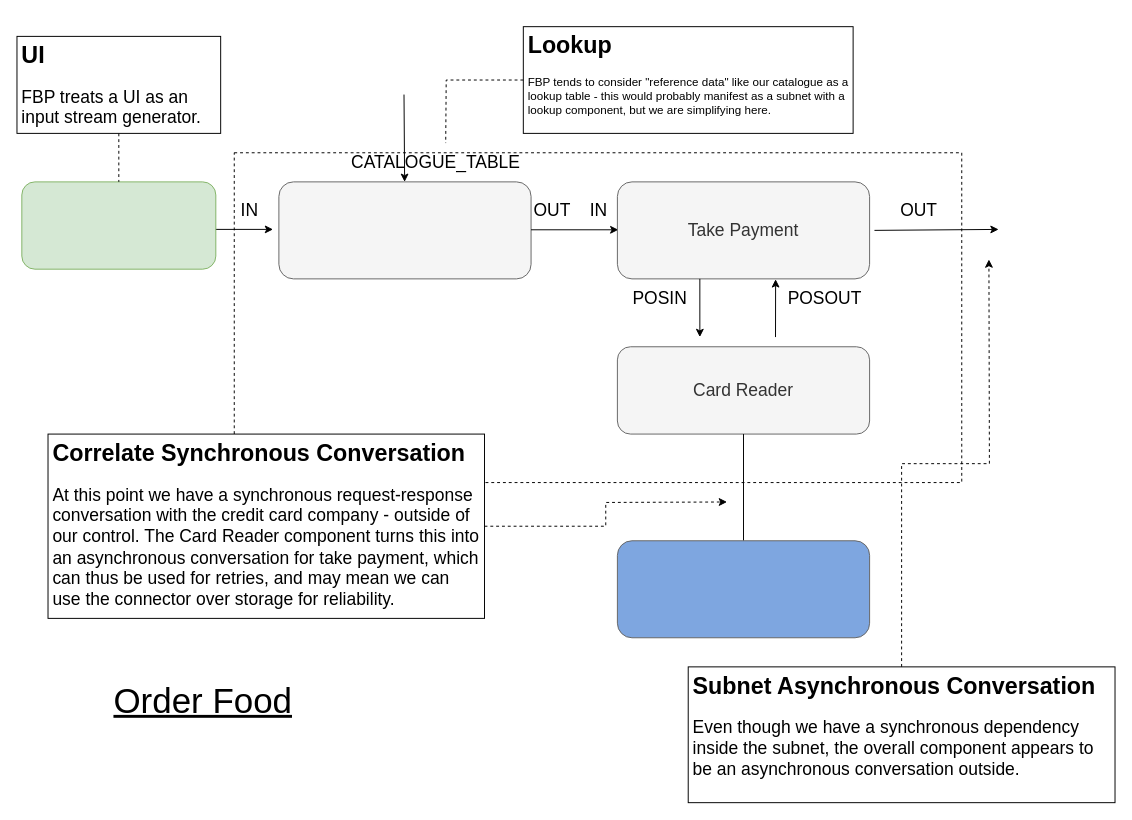
This 1132x820 diagram has some shape labels left out. The box of each missing label's shape, as (x1, y1, x2, y2) in pixels:
Credit Card Company: (616, 540, 870, 638)
Order UI: (21, 181, 216, 269)
Take Order: (278, 181, 531, 279)
